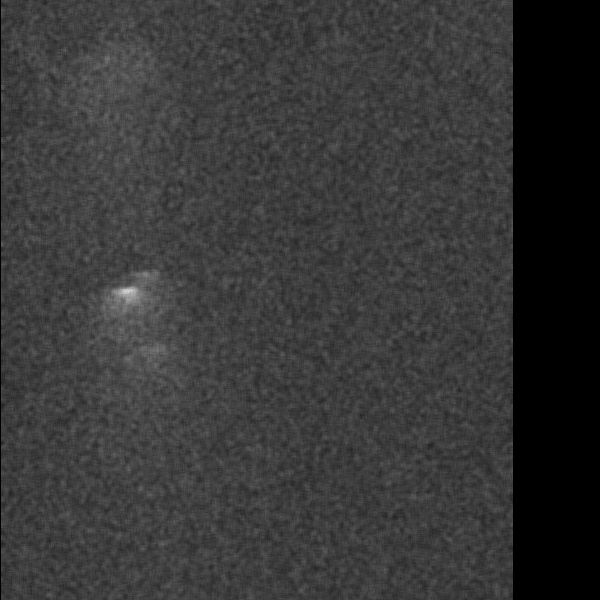spark: (310, 45, 347, 219), (377, 461, 404, 579), (256, 283, 285, 382), (43, 491, 66, 600), (395, 40, 423, 105), (181, 210, 203, 276), (118, 489, 141, 539), (81, 350, 103, 376)
